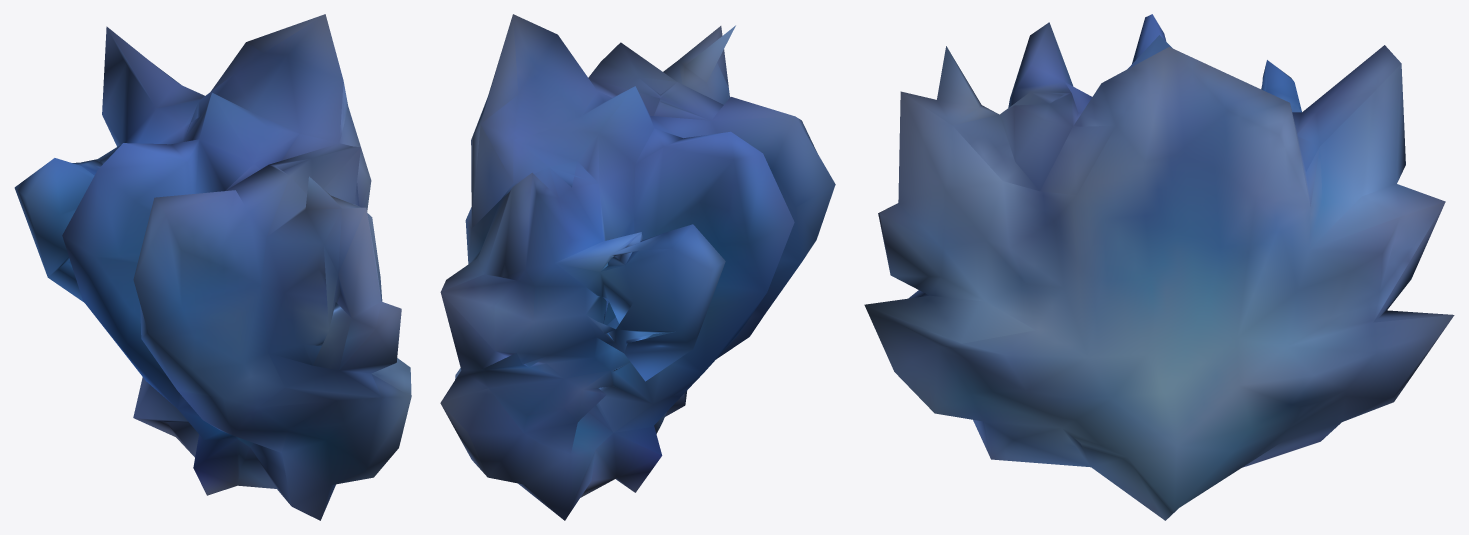
File: gem_hoarfrost_pulse.glb
3 renders of one model, left to right at view 1: azimuth 30°, elevation 25°; view 2: azimuth 150°, elevation 25°; view 3: azimuth 270°, elevation 25°, orthographic. The views are drawn at different scales.
Parts seen in each view (by area): view 1: model; view 2: model; view 3: model.
Boxes of the visible parts, x1,y1,x2,y2 form: model: (14, 14, 411, 520); model: (440, 14, 835, 520); model: (864, 14, 1454, 520).
Bounding box in the file's own units: 0.2351 × 0.3678 × 0.4045.
1 material, 1 textured.
